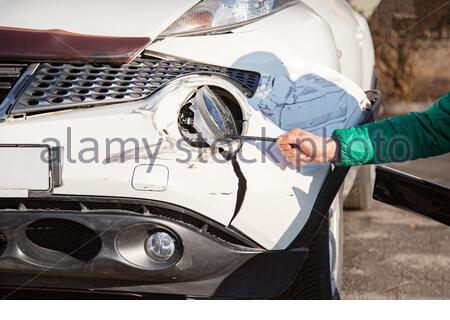front-bumper-dent: (0, 114, 327, 292)
